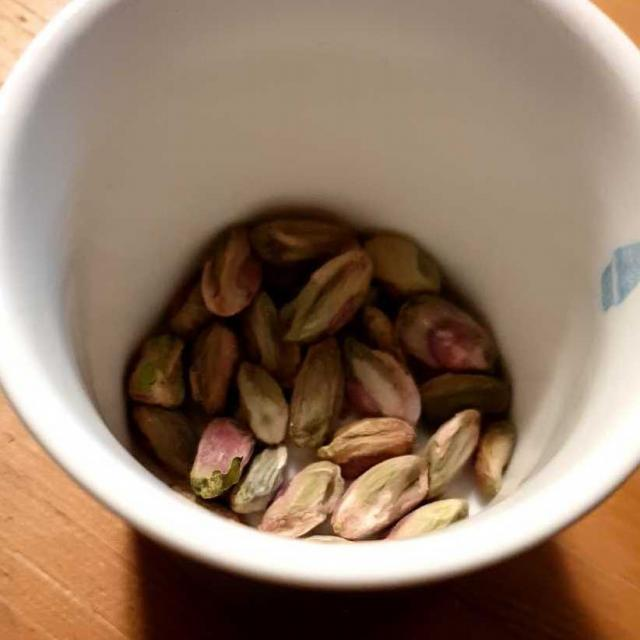pistachio: (128, 208, 509, 537)
